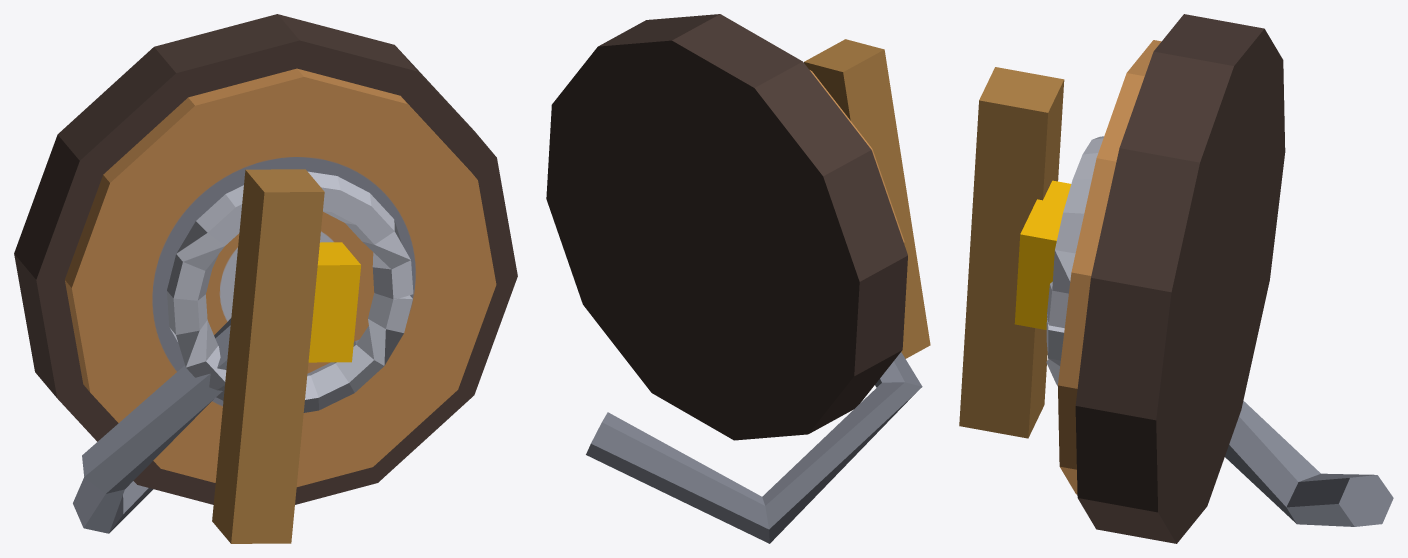
The model's file is fast_reel_2.glb.
3 views of the same model, side by side, from view 1: azimuth 30°, elevation 25°; view 2: azimuth 150°, elevation 25°; view 3: azimuth 270°, elevation 25° (orthographic). The views are drawn at different scales.
Visible parts, largest first — view 1: wear_fast_reel_2_00_display, wear_fast_reel_2_01_display; view 2: wear_fast_reel_2_00_display, wear_fast_reel_2_01_display; view 3: wear_fast_reel_2_00_display, wear_fast_reel_2_01_display.
Boxes of the visible parts, x1,y1,x2,y2 form: wear_fast_reel_2_00_display: (14,14,517,533); wear_fast_reel_2_01_display: (212,169,324,543); wear_fast_reel_2_00_display: (546,14,922,543); wear_fast_reel_2_01_display: (804,39,930,358); wear_fast_reel_2_00_display: (1014,14,1393,543); wear_fast_reel_2_01_display: (959,67,1064,438).
Size of the model in its own units: 0.44 by 0.4957 by 0.3651.
Materials: 7 (1 with a texture image).
